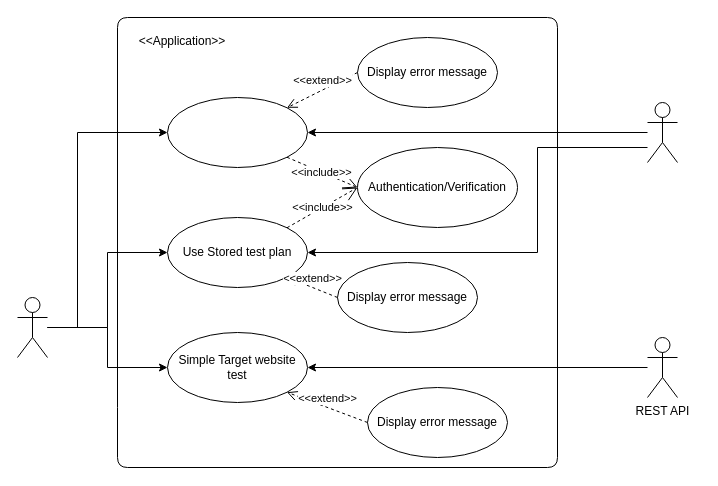
Image size: 718x486. Some labels were removed from this diagram. The centre of each missing label's shape, as x and y in pixels:
<<service>> Authentication: the point at 662,132
Upload test Plan: the point at 237,132
User: the point at 32,327
